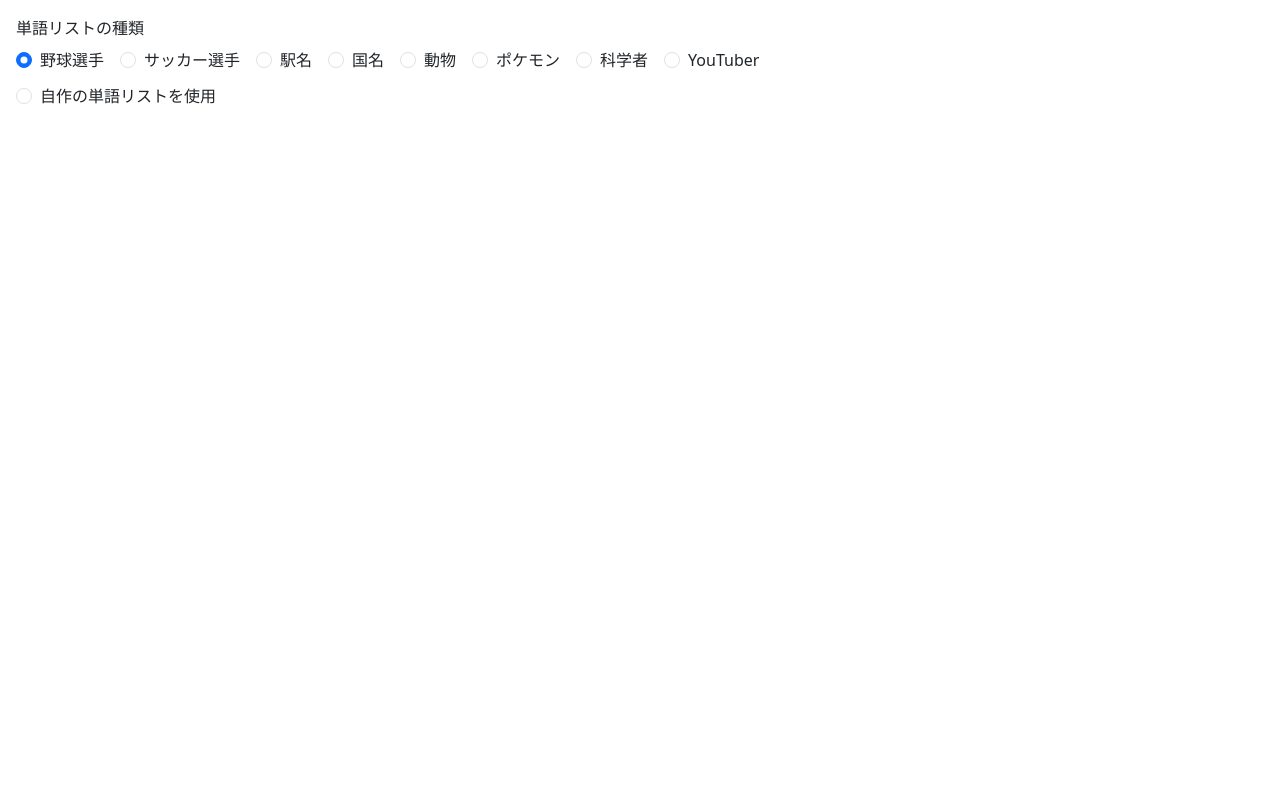
Scenario: WordListSelector › 自作の単語リストを選択するとモーダルが表示される
This screenshot has width=1280, height=800.
// 自作の単語リストを選択
Click the radio button labelled "自作の単語リストを使用": click(24, 96) [16,88,32,104]
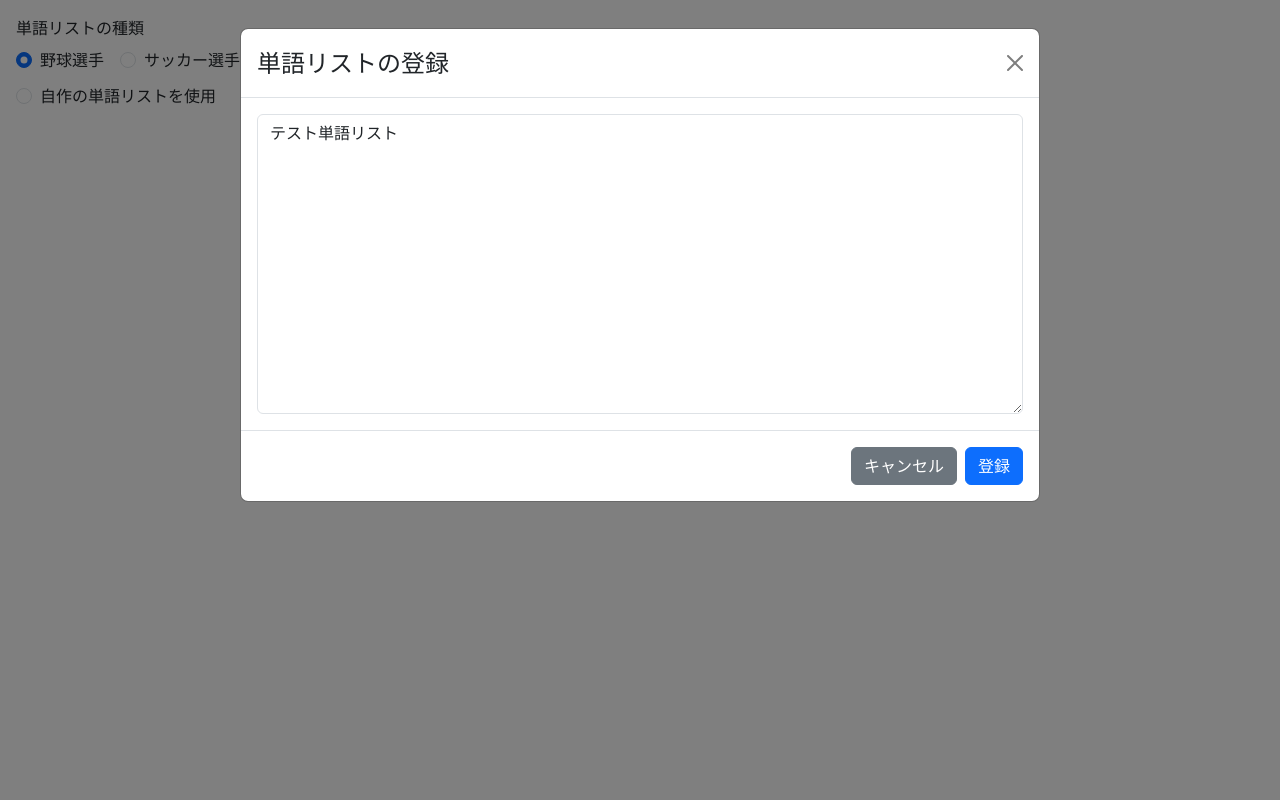
Check: the text "単語リストの登録" is shown, box [257,45,449,81]
Check: the button "キャンセル" is shown, box [851,447,957,485]
Check: the button "登録" is shown, box [965,447,1023,485]
